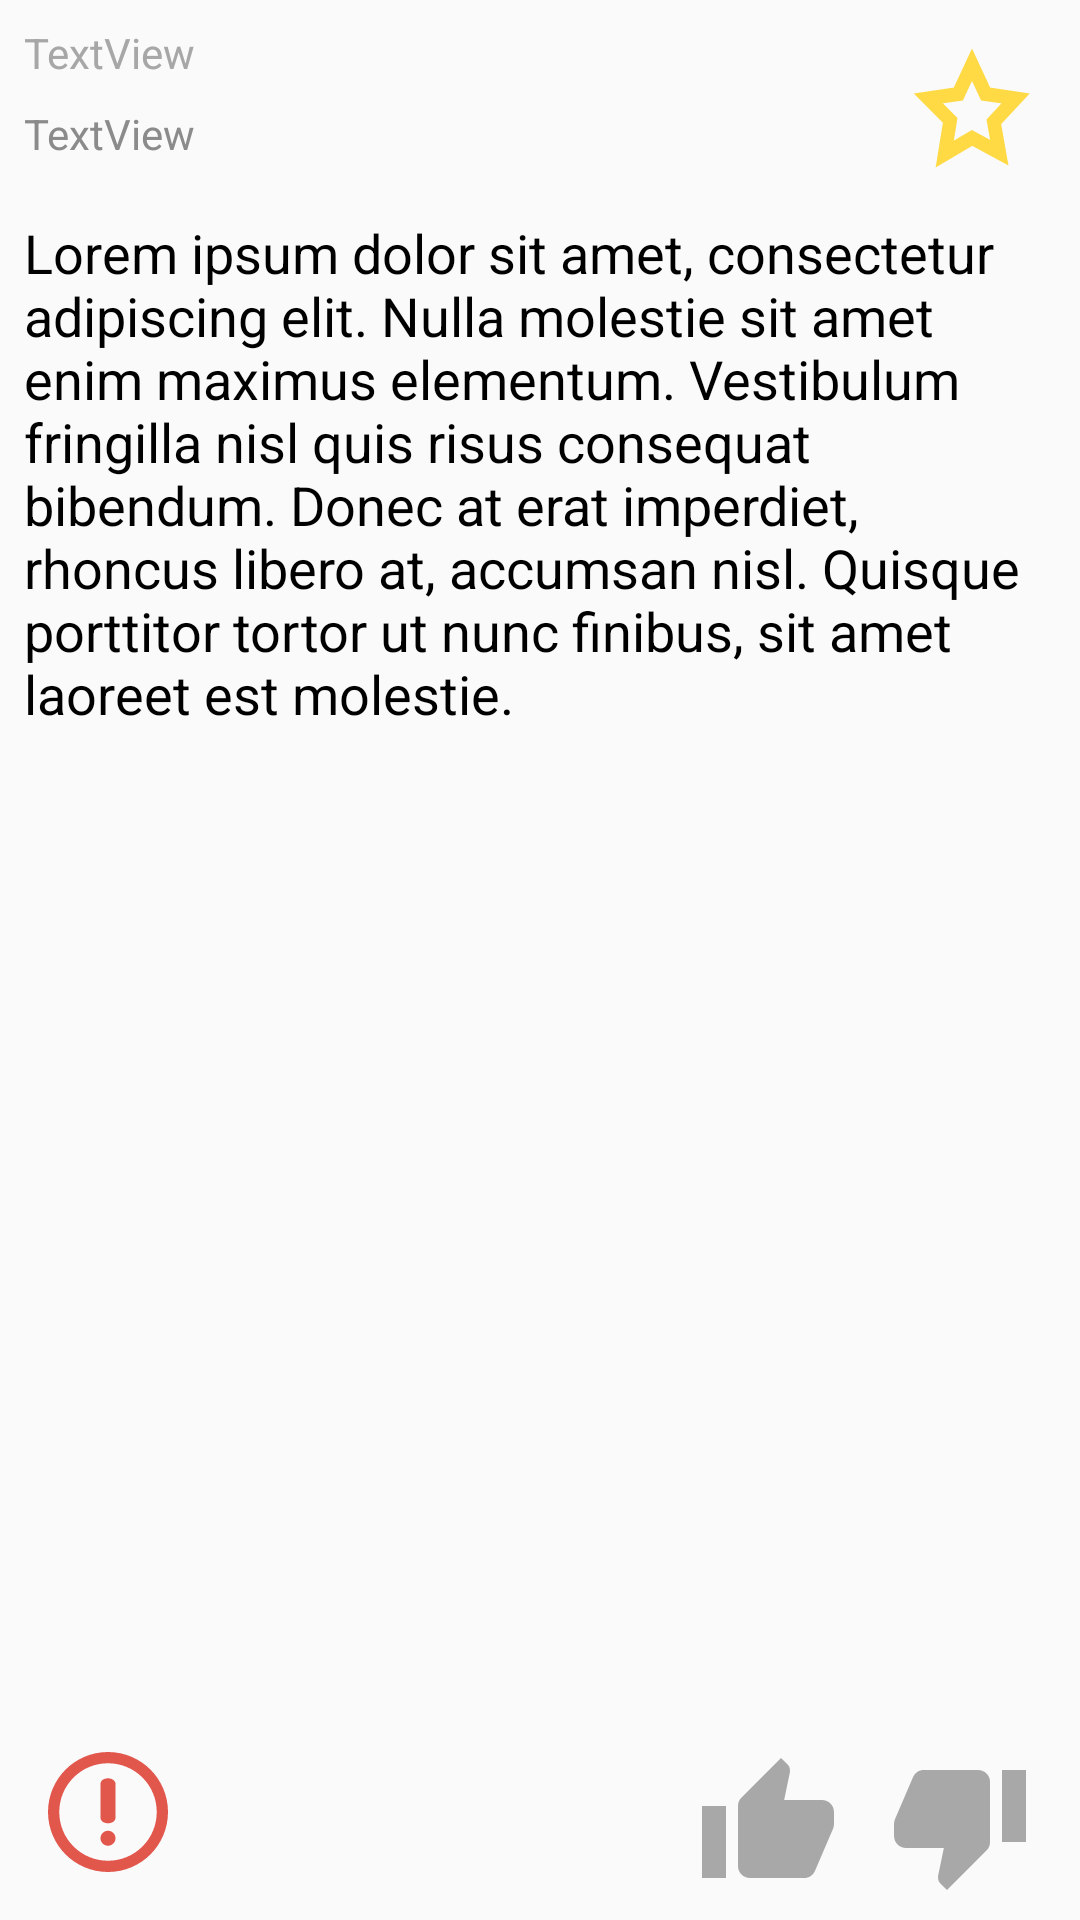

Where to tap for icons on this 1080w x 1920h app screen, as (x,y):
empty star: (972,108)
exclamation mark: (108,1812)
